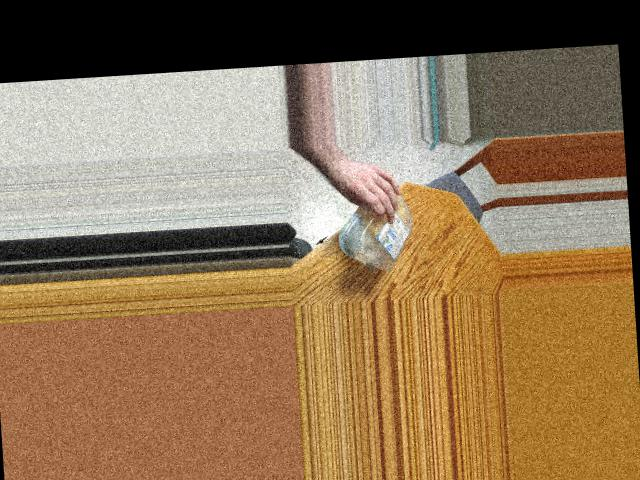cheese: (339, 174, 417, 274)
